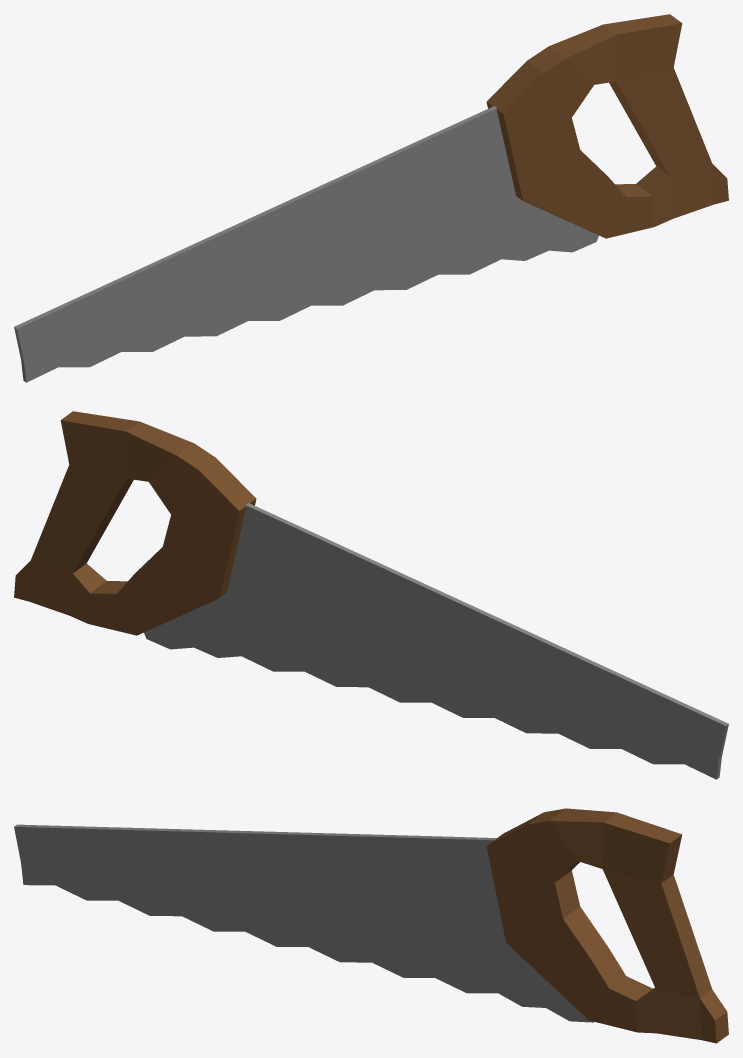
File: Saw.fbx
3 renders of one model, top to bottom at view 1: azimuth 30°, elevation 25°; view 2: azimuth 150°, elevation 25°; view 3: azimuth 330°, elevation 25°, orthographic.
Visible parts, largest first — view 1: Saw; view 2: Saw; view 3: Saw.
Part boxes in pixels (box(x1,y1,x2,y2)): Saw: box(14, 14, 728, 382); Saw: box(14, 411, 728, 779); Saw: box(14, 808, 728, 1043).
Size of the model in its own units: 0.637 by 0.1827 by 0.0267.
